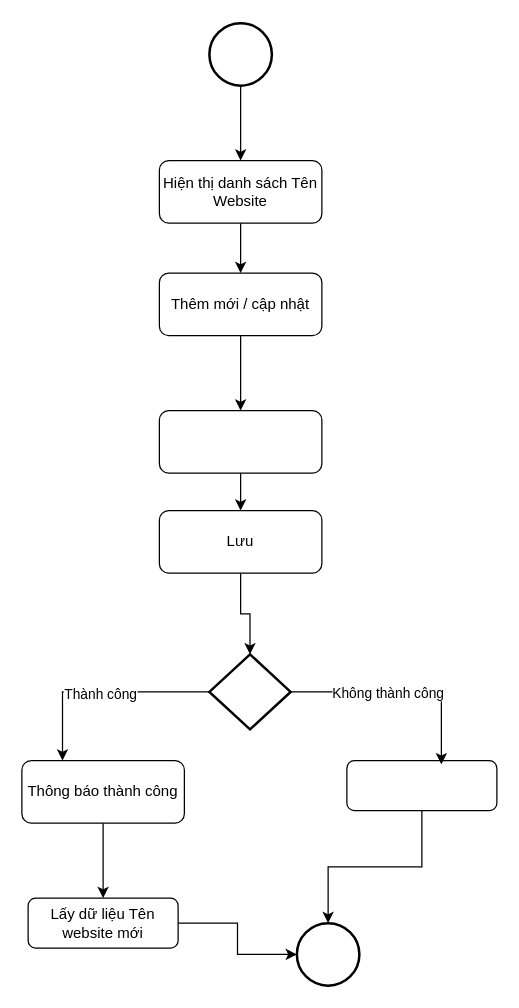
The diagram is 519 pixels wide and 1008 high, and some of its shapes have lost their labels. Here are the shapes that lost their labels. From the top down, the box of each, then its label:
(158, 409, 322, 473): Nhập dữ liệu
(346, 759, 497, 811): Thông báo lỗi
